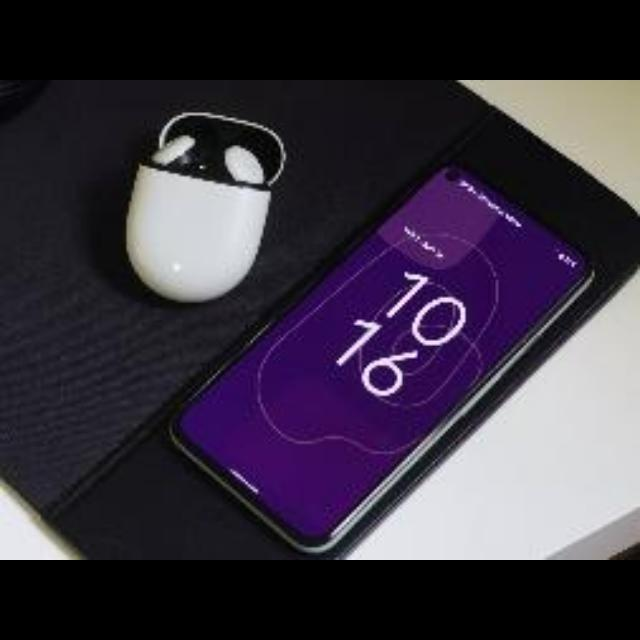phone: (135, 147, 622, 559)
